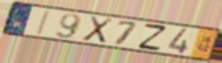4: (167, 27, 190, 55)
7: (115, 19, 140, 47)
9: (54, 13, 85, 39)
I: (34, 9, 52, 37)
X: (80, 15, 115, 45)
Z: (137, 23, 169, 52)
